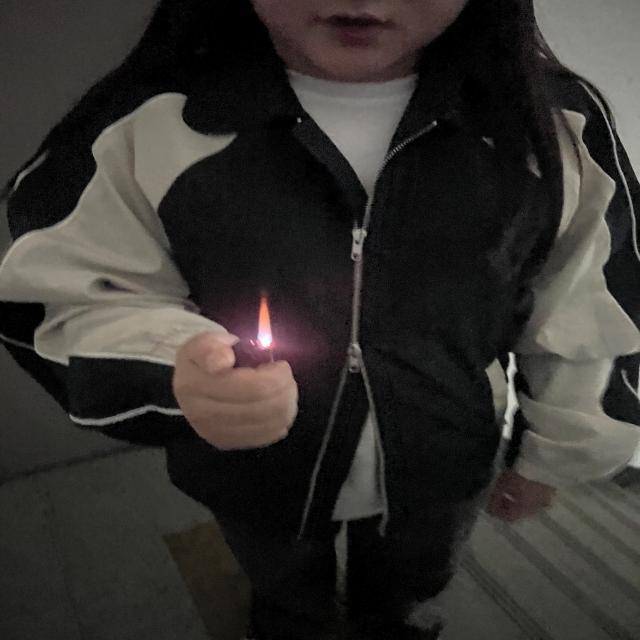fire: (256, 290, 273, 348)
